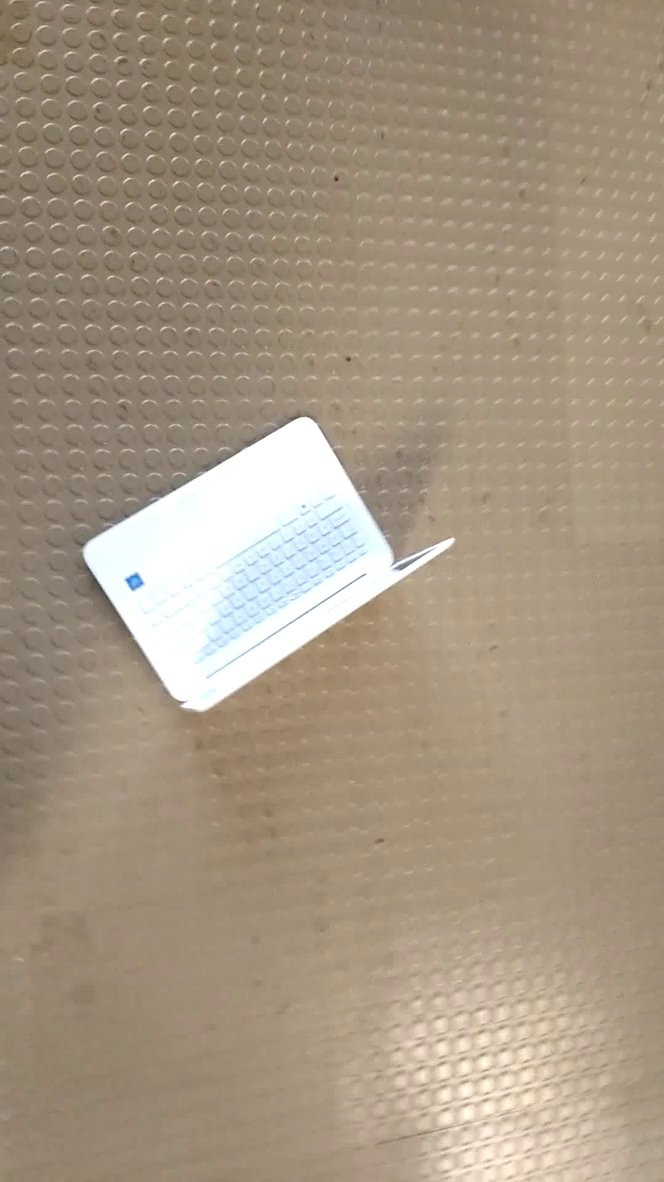laptop: (76, 411, 465, 725)
